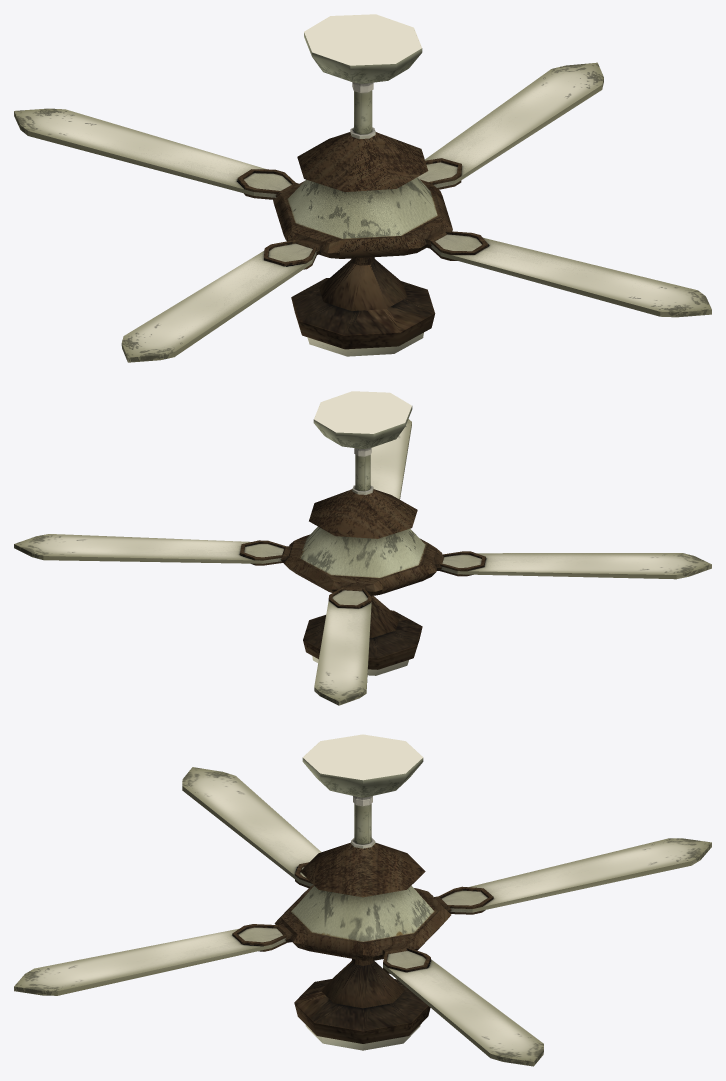
The model's file is fan.fbx.
3 renders of one model, top to bottom at view 1: azimuth 30°, elevation 25°; view 2: azimuth 150°, elevation 25°; view 3: azimuth 270°, elevation 25°, orthographic. The views are drawn at different scales.
Parts seen in each view (by area): view 1: polySurface408, polySurface407; view 2: polySurface408, polySurface407; view 3: polySurface408, polySurface407.
Part boxes in pixels (x1,y1,x2,y2): polySurface408: [14, 62, 711, 362]; polySurface407: [291, 14, 435, 356]; polySurface408: [14, 419, 711, 705]; polySurface407: [303, 391, 422, 675]; polySurface408: [14, 767, 711, 1066]; polySurface407: [294, 734, 430, 1050].
Bounding box in the file's own units: 13.5 × 5.97 × 13.5.
